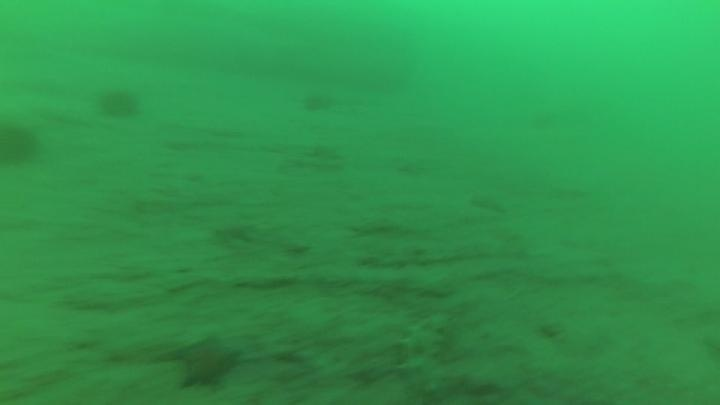echinus: (0, 119, 43, 170), (95, 84, 143, 123), (299, 88, 336, 116)
holothurian: (394, 310, 454, 401)
starfish: (167, 331, 244, 393)
